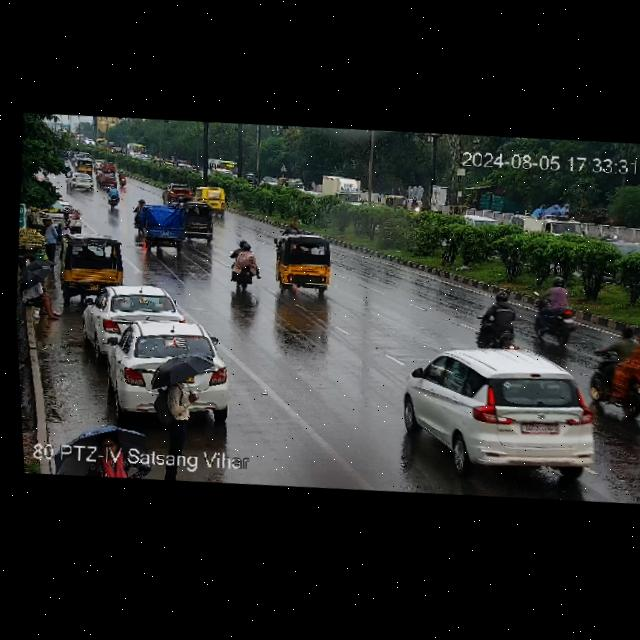bus: (124, 139, 147, 158), (94, 136, 111, 152)
car: (397, 339, 595, 483), (84, 313, 240, 431), (81, 280, 187, 349), (129, 200, 215, 254), (270, 231, 343, 294), (60, 234, 129, 296), (522, 210, 588, 240), (196, 186, 233, 216), (63, 169, 100, 192), (160, 181, 195, 201), (71, 154, 98, 174), (385, 191, 407, 211), (97, 169, 117, 188), (95, 157, 117, 174)
motorcycle: (583, 323, 640, 425), (472, 291, 526, 354), (532, 279, 578, 343), (224, 238, 262, 291), (104, 185, 124, 208), (115, 169, 132, 187)
person: (151, 357, 201, 455), (93, 433, 143, 480), (19, 266, 61, 320), (37, 215, 66, 260), (57, 209, 72, 238)
truck: (320, 173, 362, 206), (203, 155, 241, 179)
